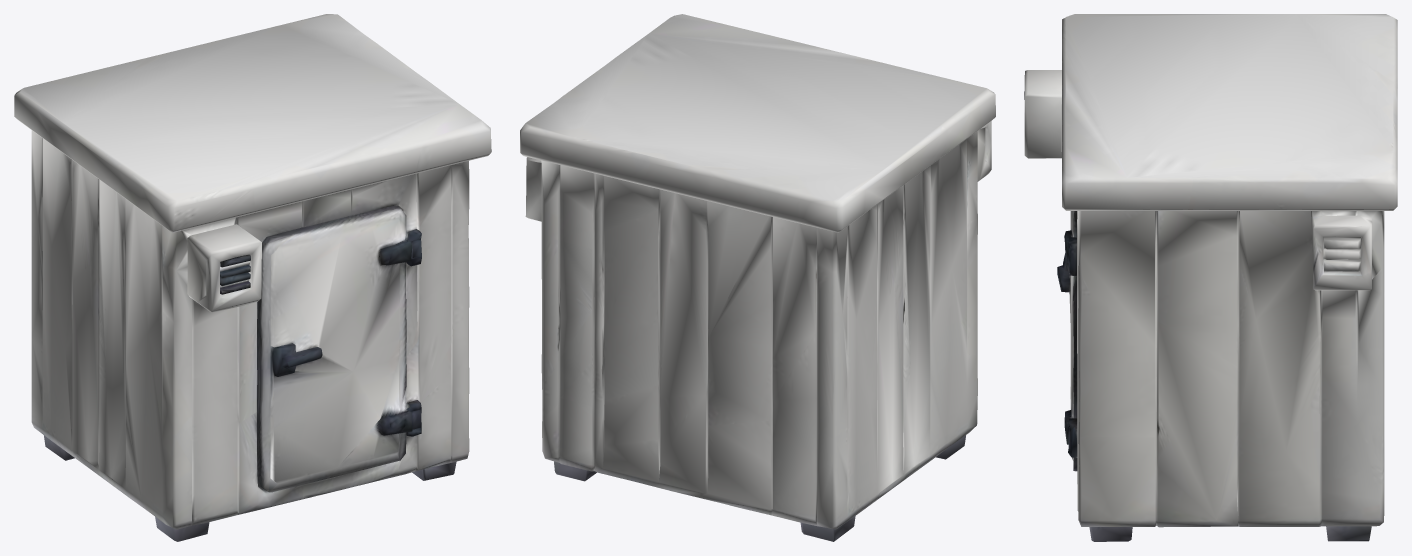
File: coolstore.glb
3 views of the same model, side by side, from view 1: azimuth 30°, elevation 25°; view 2: azimuth 150°, elevation 25°; view 3: azimuth 270°, elevation 25° (orthographic). The views are drawn at different scales.
Parts seen in each view (by area): view 1: model; view 2: model; view 3: model.
Boxes of the visible parts, x1,y1,x2,y2 form: model: [14, 14, 491, 541]; model: [520, 14, 995, 541]; model: [1024, 14, 1397, 541].
Bounding box in the file's own units: 1.86 × 1.9 × 1.72.
Materials: 1 (1 with a texture image).
